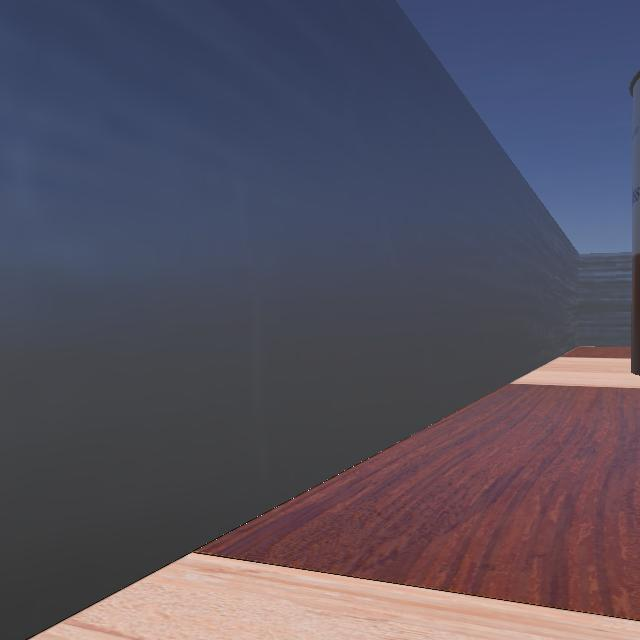paint-bucket: (576, 1, 640, 402)
